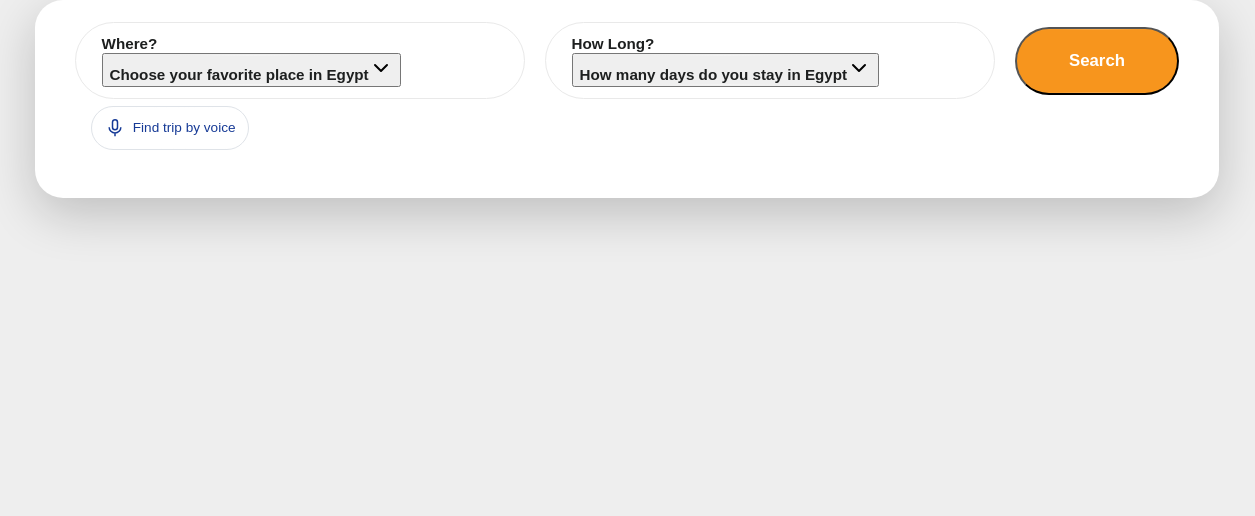
Test: Smart Voice integrates with the existing Find Trip › partial taxonomy failure degrades by capability ([])
The width and height of the screenshot is (1255, 516).
Click the button "Find trip by voice" at (170, 128), box top-left (91, 106), bottom-right (249, 150)
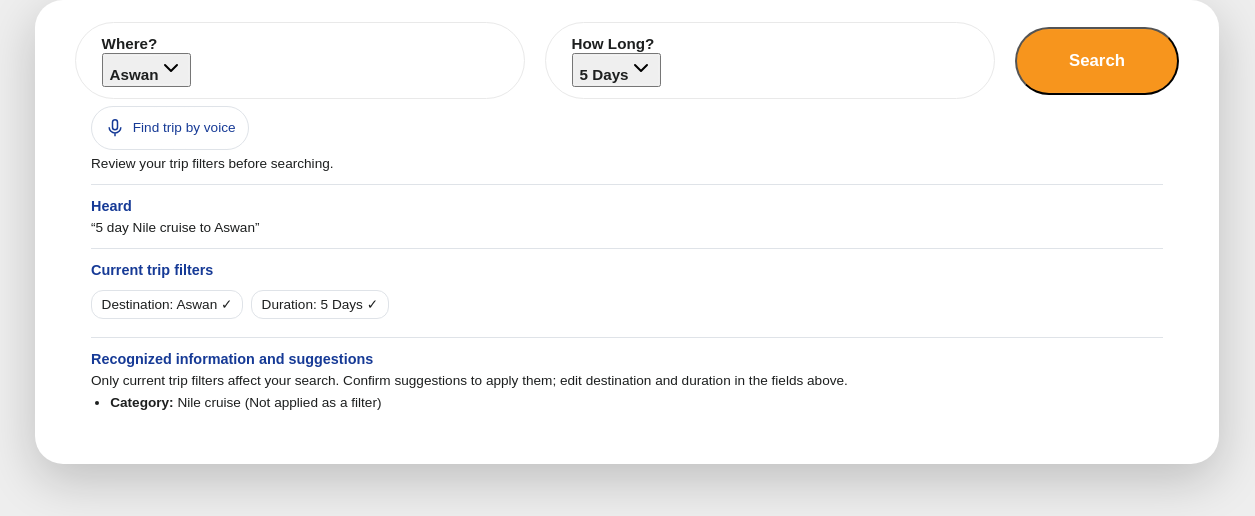
expect the element "Heard" is shown: met, box top-left (91, 184), bottom-right (1163, 235)
expect the text "Review your trip filters before searching." is shown: met, box top-left (91, 156), bottom-right (334, 171)
expect the element "Recognized information and suggestions" shows "Not applied as a filter": met, box top-left (249, 395), bottom-right (377, 410)
